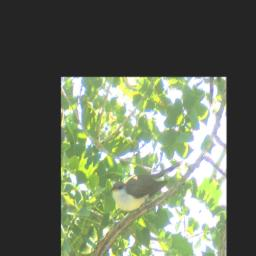Cuckoo: (107, 122, 186, 234)
